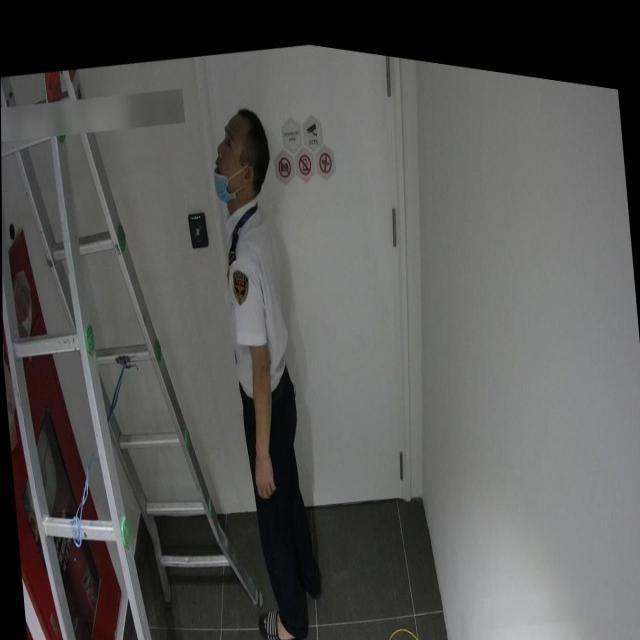hairnet: (208, 106, 244, 200)
